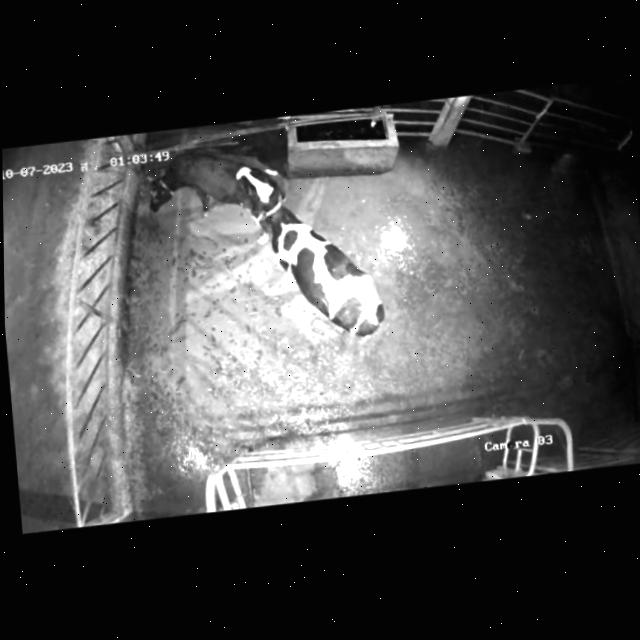propping: (226, 154, 296, 242)
stand: (113, 131, 302, 232)
